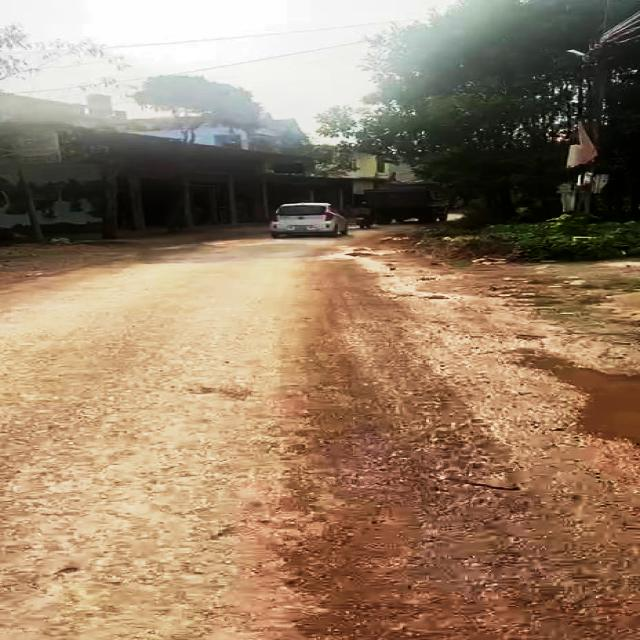pothole: (500, 345, 640, 452)
